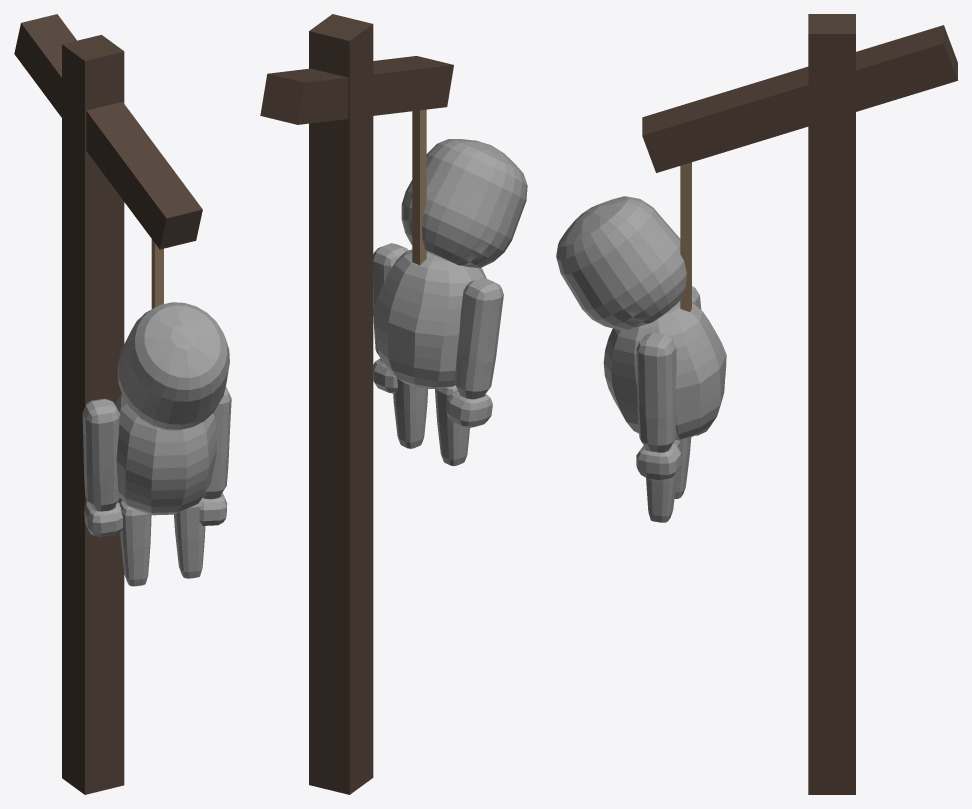
Rendered from hangman_2.glb.
3 renders of one model, left to right at view 1: azimuth 30°, elevation 25°; view 2: azimuth 150°, elevation 25°; view 3: azimuth 270°, elevation 25°, orthographic. The views are drawn at different scales.
Parts seen in each view (by area): view 1: Cube.1076; view 2: Cube.1076; view 3: Cube.1076.
Part boxes in pixels (x1,y1,x2,y2): Cube.1076: (14,14,231,794); Cube.1076: (260,14,527,794); Cube.1076: (556,14,957,794).
Size of the model in its own units: 0.0224 by 0.1179 by 0.0564.
